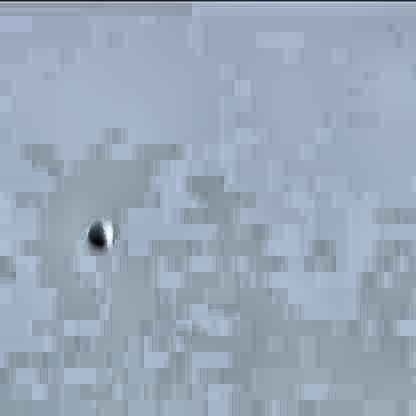golfball: (85, 214, 113, 245)
